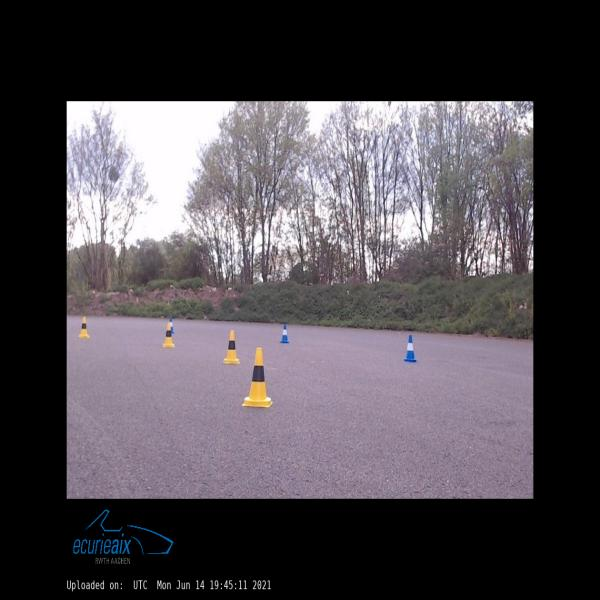blue_cone: (404, 335, 416, 361), (280, 324, 290, 342), (170, 319, 174, 332)
yellow_cone: (242, 348, 273, 408), (223, 330, 240, 364), (163, 323, 174, 347), (79, 317, 90, 338)
